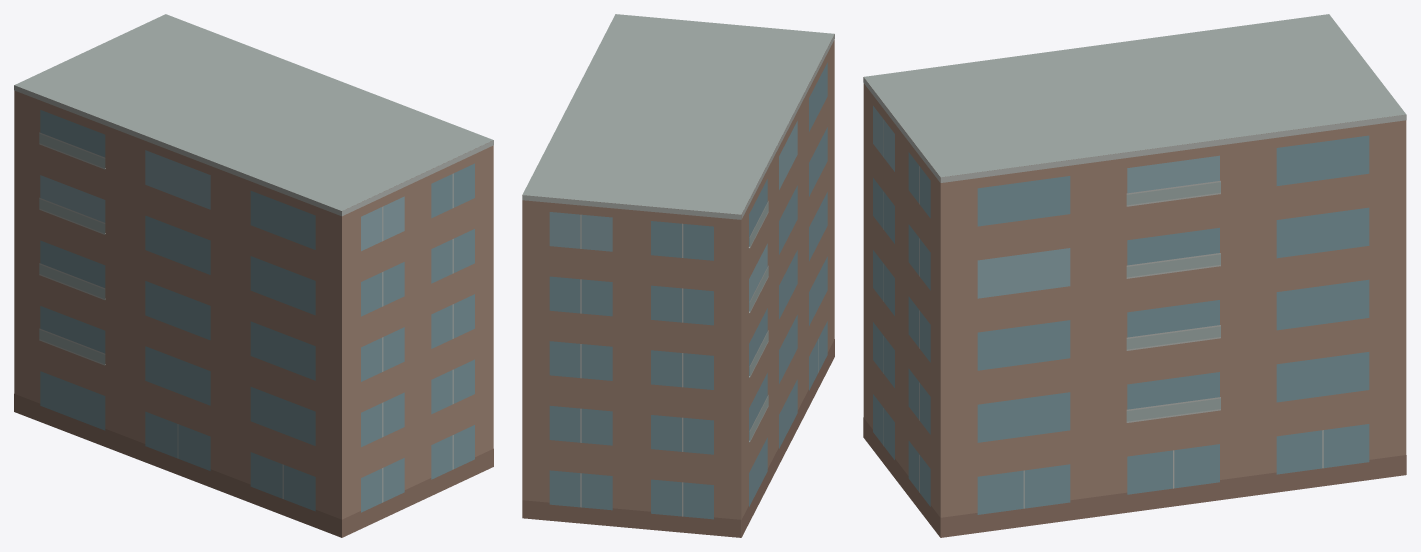
File: survey-upis-32536115.glb
3 views of the same model, side by side, from view 1: azimuth 30°, elevation 25°; view 2: azimuth 150°, elevation 25°; view 3: azimuth 270°, elevation 25° (orthographic). The views are drawn at different scales.
Parts seen in each view (by area): view 1: survey-upis-32536115.tmp; view 2: survey-upis-32536115.tmp; view 3: survey-upis-32536115.tmp.
Part boxes in pixels (bbox=[...]): survey-upis-32536115.tmp: bbox=[14, 14, 493, 537]; survey-upis-32536115.tmp: bbox=[522, 14, 834, 537]; survey-upis-32536115.tmp: bbox=[863, 14, 1406, 537].
Size of the model in its own units: 14.83 by 15.25 by 20.83.
